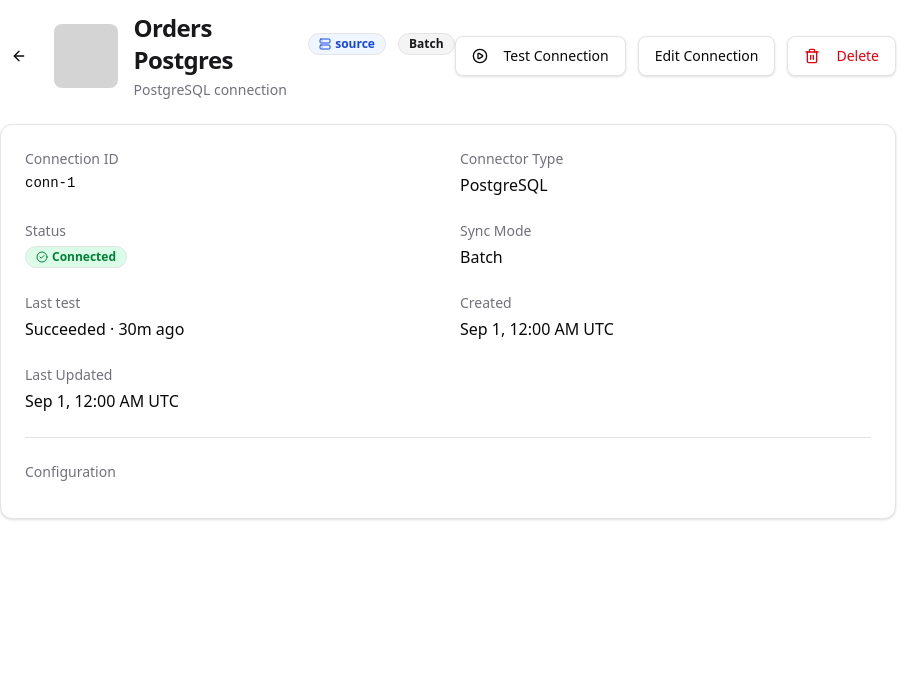
Test: connection page — last test error › a test that fails from a passing state shows the new error without a reload
Expected: the heading "Orders Postgres" is shown, x1=134 y1=11 x2=233 y2=76
Click the button "Test Connection": (540,56) x1=454 y1=36 x2=626 y2=76
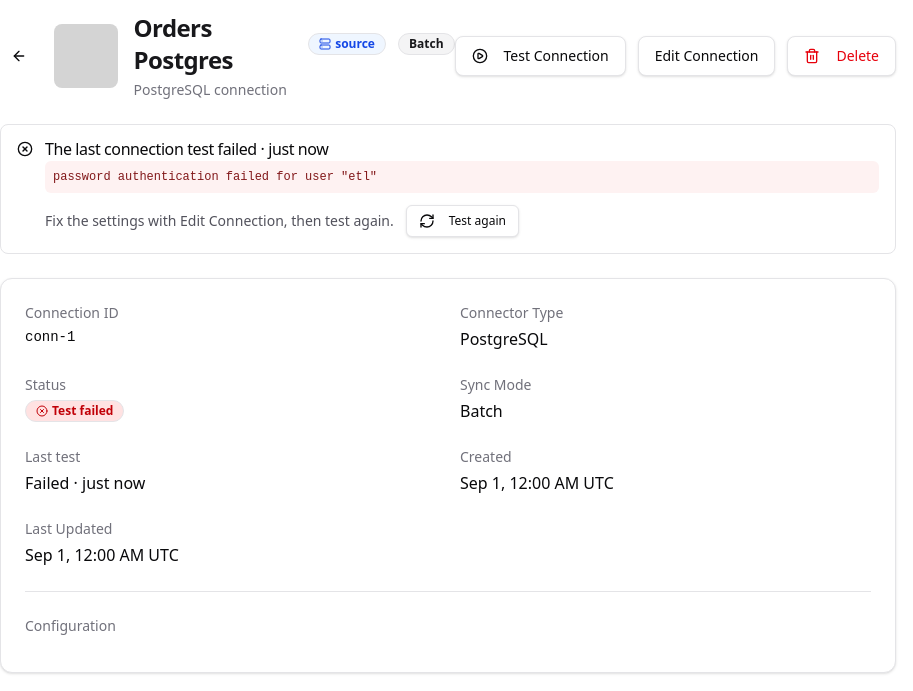
Expected: the message with test id "connection-last-test-failed" shows "password authentication failed for user \"etl\"", x1=53 y1=170 x2=377 y2=184
